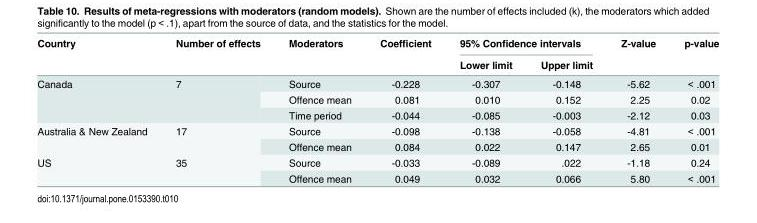table: (36, 36, 718, 183)
table column: (36, 36, 160, 183), (160, 36, 273, 183), (273, 36, 365, 183), (444, 36, 525, 183), (525, 36, 606, 183), (365, 36, 444, 183), (606, 36, 669, 183), (669, 36, 718, 183)
table column header: (36, 36, 718, 73)
table row: (36, 53, 718, 73), (36, 73, 718, 91), (36, 36, 718, 53), (36, 91, 718, 107), (36, 122, 718, 138), (36, 138, 718, 154), (36, 154, 718, 170), (36, 107, 718, 122), (36, 170, 718, 183)
table spanning cell: (36, 73, 160, 122), (160, 73, 273, 122), (36, 36, 160, 73), (160, 36, 273, 73), (36, 122, 160, 154), (160, 122, 273, 154), (36, 154, 160, 183), (273, 36, 365, 73), (160, 154, 273, 183), (365, 36, 444, 73), (444, 36, 606, 53), (606, 36, 669, 73), (669, 36, 718, 73)
